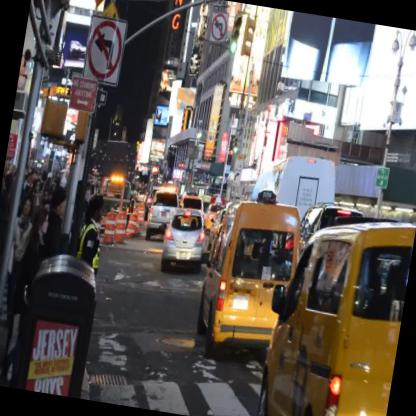car: (251, 204, 415, 415), (192, 196, 306, 368), (158, 208, 210, 278), (144, 186, 182, 246)
